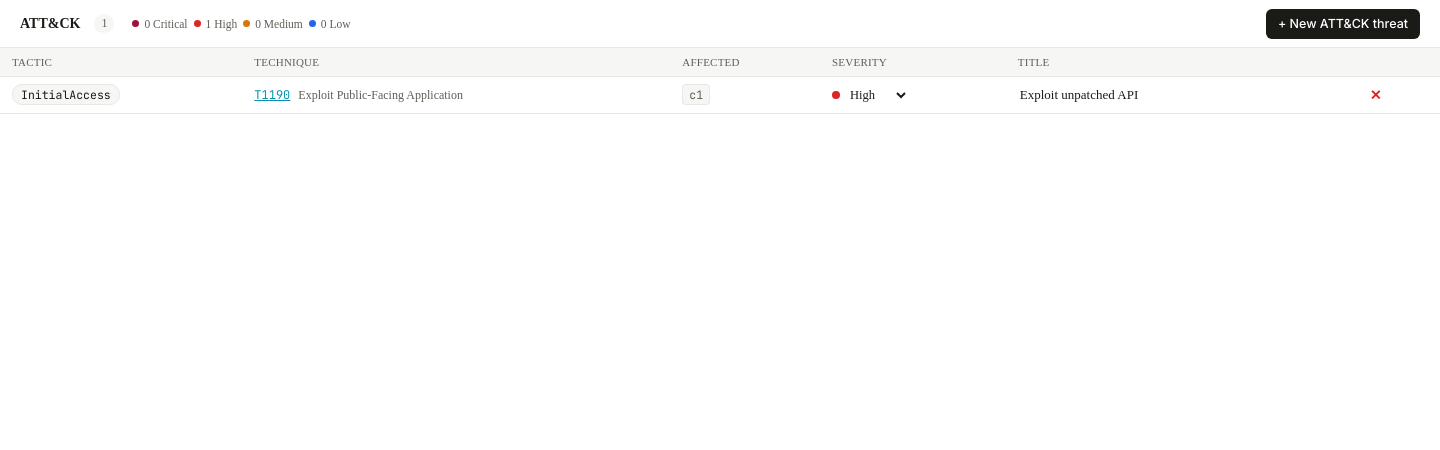
Test case: AttackPanel › expands the row to show description, mitigation, and detection on click
What coordinates should you click on to do the following:
click the row showing "Exploit unpatched API"
I would click on:
 (720, 95)
Its box is 0,76 -> 1439,114.
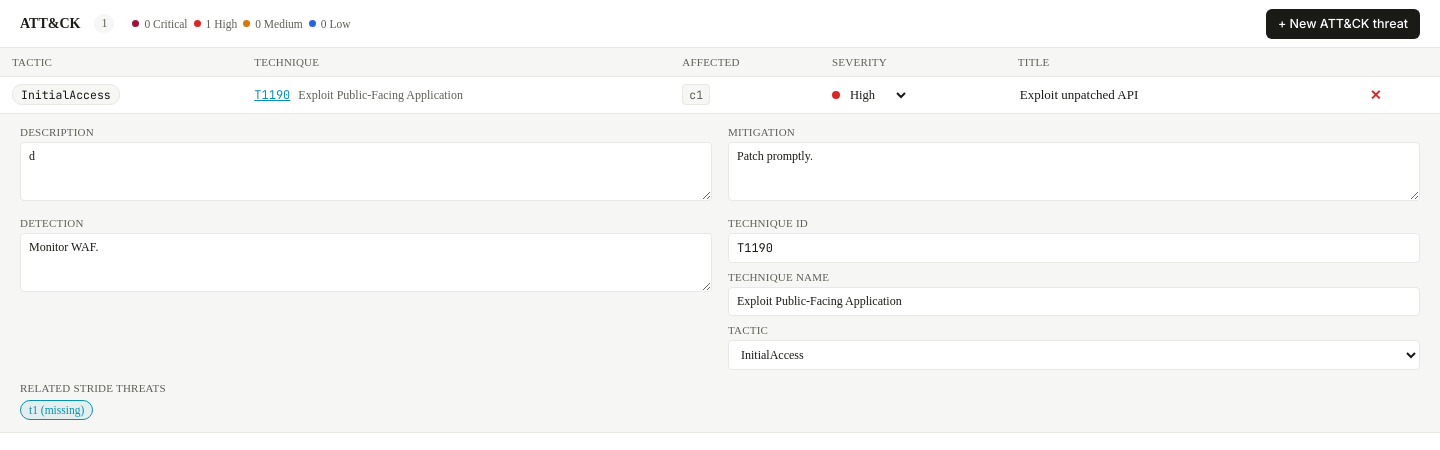
Result: the text box showing "Patch promptly." is shown at 728,142 -> 1420,201
Result: the text box showing "Monitor WAF." is shown at 20,233 -> 712,292
